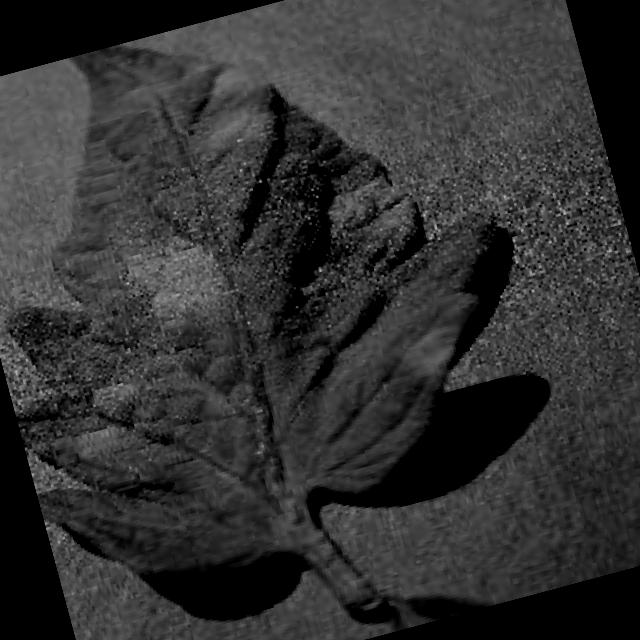leaf mold: (11, 45, 493, 613)
